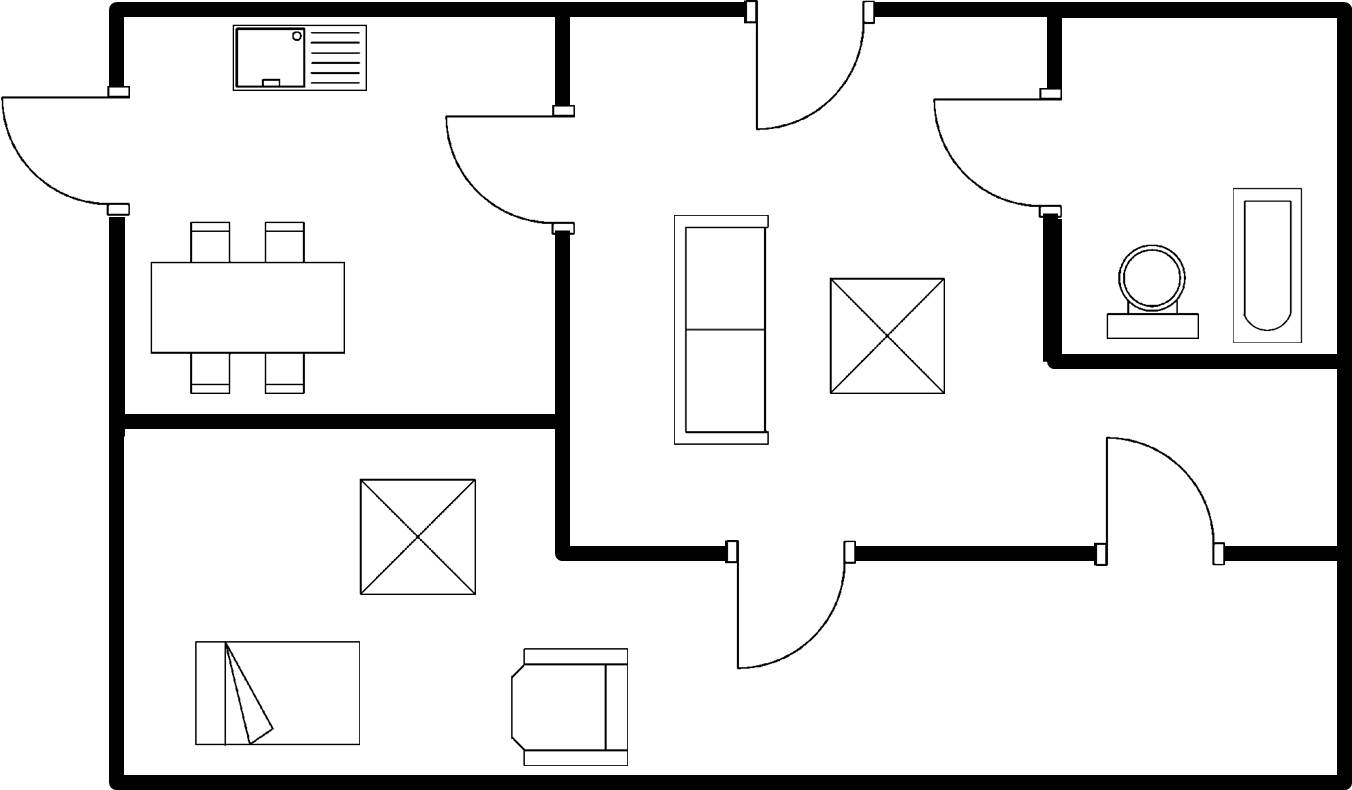bed: (187, 631, 367, 752)
coffee_table: (818, 270, 955, 403), (505, 637, 637, 771), (352, 472, 483, 603)
dining_table: (145, 214, 352, 403)
large_sink: (1099, 238, 1206, 348)
large_sofa: (666, 206, 782, 451)
sink: (227, 19, 372, 97)
tub: (1225, 181, 1307, 350)
